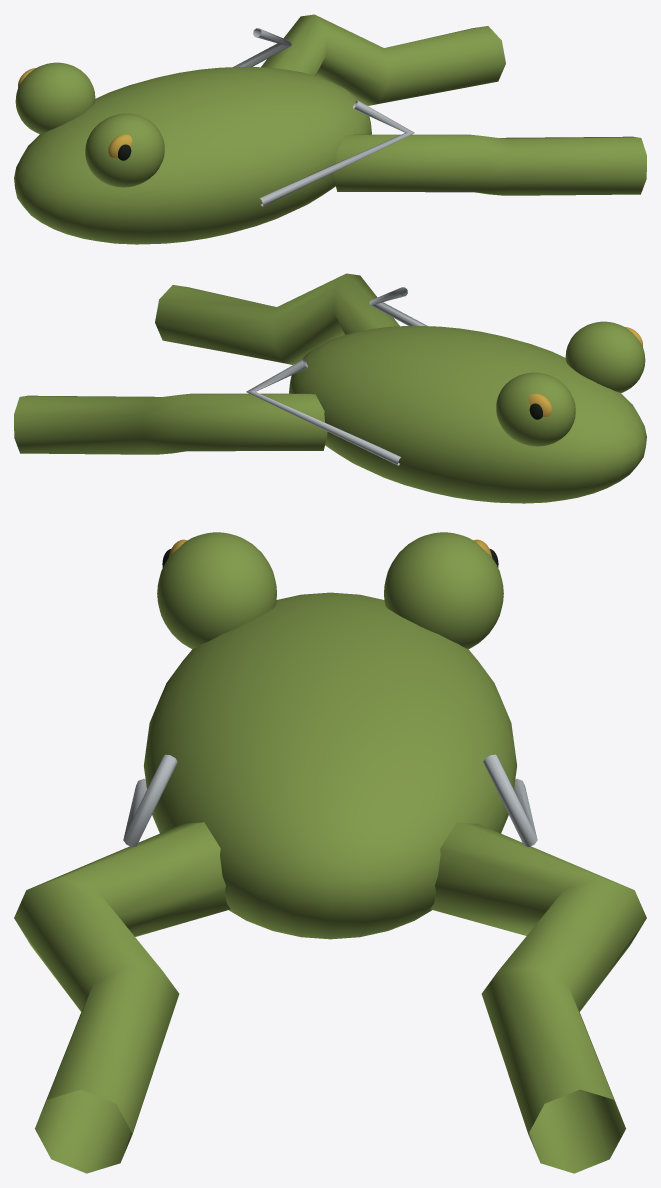
File: frog.glb
3 renders of one model, top to bottom at view 1: azimuth 30°, elevation 25°; view 2: azimuth 150°, elevation 25°; view 3: azimuth 270°, elevation 25°, orthographic. The views are drawn at different scales.
Visible parts, largest first — view 1: frog body, rubber leg, rubber leg.001, eye mound, eye mound.001, weedless hook, weedless hook.001; view 2: frog body, rubber leg.001, rubber leg, eye mound.001, eye mound, weedless hook.001, weedless hook; view 3: frog body, rubber leg, rubber leg.001, eye mound, eye mound.001, weedless hook, weedless hook.001.
Part boxes in pixels (<box>): frog body: <box>14,66,371,244</box>; rubber leg: <box>333,134,646,195</box>; rubber leg.001: <box>261,14,505,105</box>; eye mound: <box>85,113,164,187</box>; eye mound.001: <box>15,62,95,133</box>; weedless hook: <box>260,100,414,206</box>; weedless hook.001: <box>233,28,291,67</box>; frog body: <box>289,325,646,503</box>; rubber leg.001: <box>14,393,327,454</box>; rubber leg: <box>155,273,399,364</box>; eye mound.001: <box>496,372,575,446</box>; eye mound: <box>565,321,645,392</box>; weedless hook.001: <box>246,359,400,465</box>; weedless hook: <box>369,287,427,326</box>; frog body: <box>144,592,516,939</box>; rubber leg: <box>14,822,230,1173</box>; rubber leg.001: <box>430,822,646,1173</box>; eye mound: <box>157,532,276,649</box>; eye mound.001: <box>384,532,503,649</box>; weedless hook: <box>123,754,177,846</box>; weedless hook.001: <box>483,754,537,846</box>.
Bounding box in the file's own units: 1.54 × 0.4342 × 0.9493.
